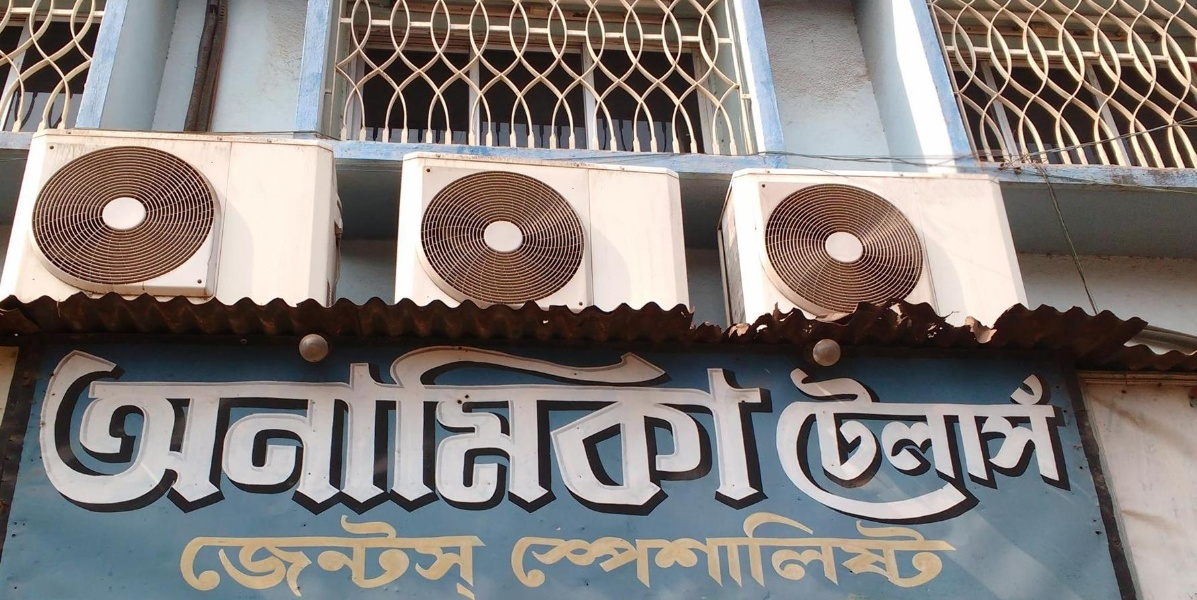text: (49, 339, 64, 522), (65, 339, 80, 522), (81, 339, 96, 522), (97, 339, 112, 522), (113, 339, 128, 522), (129, 339, 144, 522), (145, 339, 160, 522), (161, 339, 176, 522), (177, 339, 192, 522), (193, 339, 208, 522), (209, 339, 224, 522), (225, 339, 240, 522), (241, 339, 256, 522), (257, 339, 272, 522), (273, 339, 288, 522), (289, 339, 304, 522), (305, 339, 320, 522), (321, 339, 336, 522), (337, 339, 352, 522), (353, 339, 368, 522), (369, 339, 384, 522), (385, 339, 400, 522), (401, 339, 416, 522), (417, 339, 432, 522), (433, 339, 448, 522), (449, 339, 464, 522), (465, 339, 480, 522), (481, 339, 496, 522), (497, 339, 512, 522), (513, 339, 528, 522), (529, 339, 544, 522), (545, 339, 560, 522), (561, 339, 576, 522), (577, 339, 592, 522), (593, 339, 608, 522), (609, 339, 624, 522), (625, 339, 640, 522), (641, 339, 656, 522), (657, 339, 672, 522), (673, 339, 688, 522), (689, 339, 704, 522), (705, 339, 720, 522), (721, 339, 736, 522), (737, 339, 752, 522), (753, 339, 768, 522), (785, 364, 800, 529), (801, 364, 816, 529), (817, 364, 832, 529), (833, 364, 848, 529), (849, 364, 864, 529), (865, 364, 880, 529), (881, 364, 896, 529), (897, 364, 912, 529), (913, 364, 928, 529), (929, 364, 944, 529), (945, 364, 960, 529), (961, 364, 976, 529), (977, 364, 992, 529), (993, 364, 1008, 529), (1009, 364, 1024, 529), (1025, 364, 1040, 529), (1041, 364, 1056, 529), (1057, 364, 1072, 529), (38, 339, 48, 522), (1073, 364, 1084, 529), (775, 364, 784, 529), (177, 515, 192, 598), (193, 515, 208, 598), (209, 515, 224, 598), (225, 515, 240, 598), (241, 515, 256, 598), (257, 515, 272, 598), (273, 515, 288, 598), (289, 515, 304, 598), (305, 515, 320, 598), (321, 515, 336, 598), (337, 515, 352, 598), (353, 515, 368, 598), (369, 515, 384, 598), (385, 515, 400, 598), (401, 515, 416, 598), (417, 515, 432, 598), (433, 515, 448, 598), (449, 515, 464, 598), (465, 515, 480, 598), (529, 509, 544, 591), (545, 509, 560, 591), (561, 509, 576, 591), (577, 509, 592, 591), (593, 509, 608, 591), (609, 509, 624, 591), (625, 509, 640, 591), (641, 509, 656, 591), (657, 509, 672, 591), (673, 509, 688, 591), (689, 509, 704, 591), (705, 509, 720, 591), (721, 509, 736, 591), (737, 509, 752, 591), (753, 509, 768, 591), (769, 509, 784, 591), (785, 509, 800, 591), (801, 509, 816, 591), (817, 509, 832, 591), (833, 509, 848, 591), (849, 509, 864, 591), (865, 509, 880, 591), (881, 509, 896, 591), (897, 509, 912, 591), (913, 509, 928, 591), (929, 509, 944, 591), (945, 509, 960, 591), (769, 339, 775, 522), (481, 515, 490, 598), (522, 509, 528, 591), (171, 515, 176, 598), (961, 509, 963, 591)
